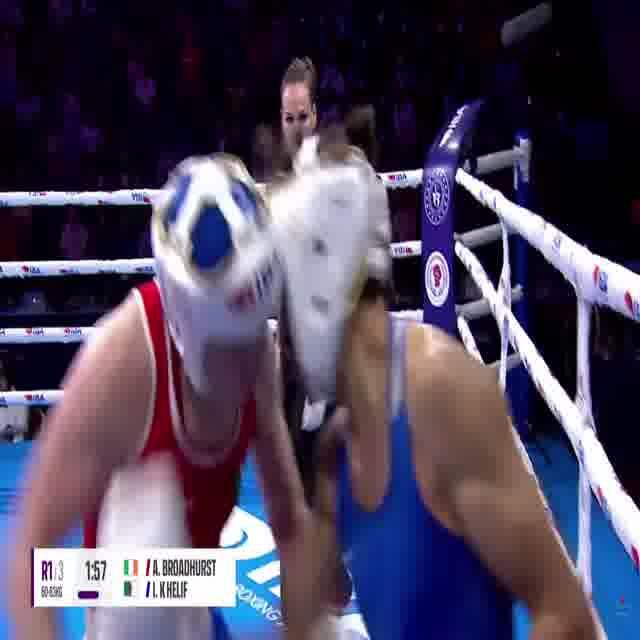blue-player: (83, 120, 600, 640)
red-player: (0, 151, 347, 640)
referee: (249, 52, 359, 608)
